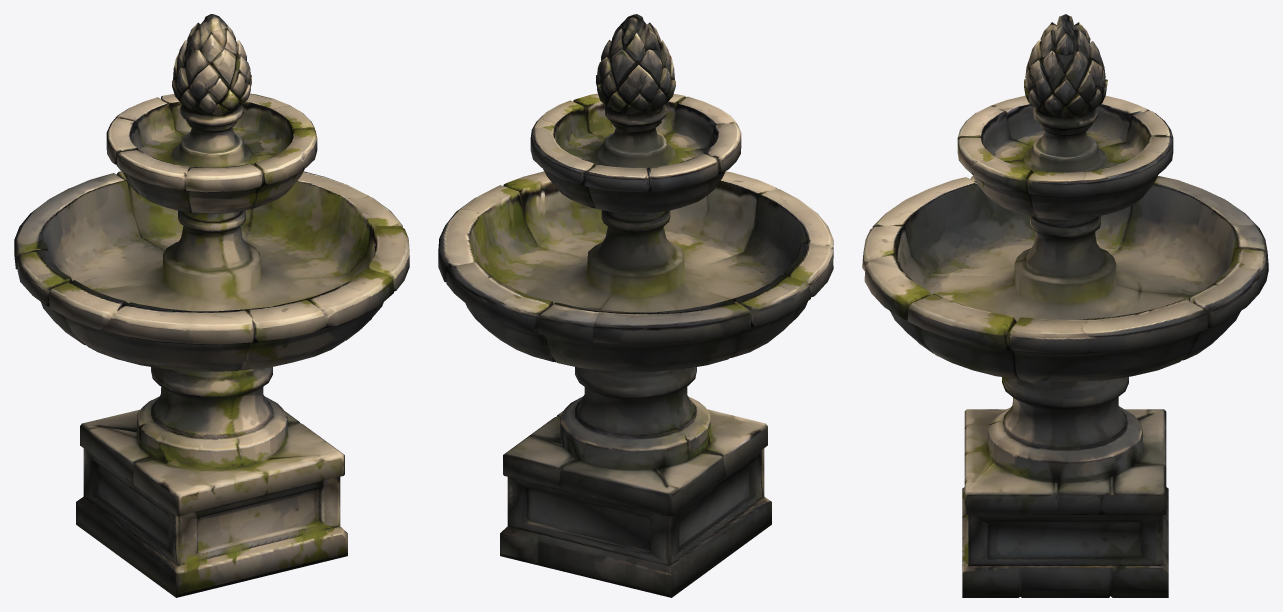
Rendered from fountain.glb.
The picture shows the model from 3 angles, left to right: view 1: azimuth 30°, elevation 25°; view 2: azimuth 150°, elevation 25°; view 3: azimuth 270°, elevation 25°; orthographic projection. The views are drawn at different scales.
Parts seen in each view (by area): view 1: tripo_node_52af501e-bf6b-4113-af40-ef974cb0637c; view 2: tripo_node_52af501e-bf6b-4113-af40-ef974cb0637c; view 3: tripo_node_52af501e-bf6b-4113-af40-ef974cb0637c.
Part boxes in pixels (x1,y1,x2,y2): tripo_node_52af501e-bf6b-4113-af40-ef974cb0637c: (14, 14, 409, 597); tripo_node_52af501e-bf6b-4113-af40-ef974cb0637c: (438, 14, 833, 597); tripo_node_52af501e-bf6b-4113-af40-ef974cb0637c: (862, 14, 1268, 597).
Bounding box in the file's own units: 0.6777 × 0.998 × 0.6816.
Materials: 1 (1 with a texture image).
